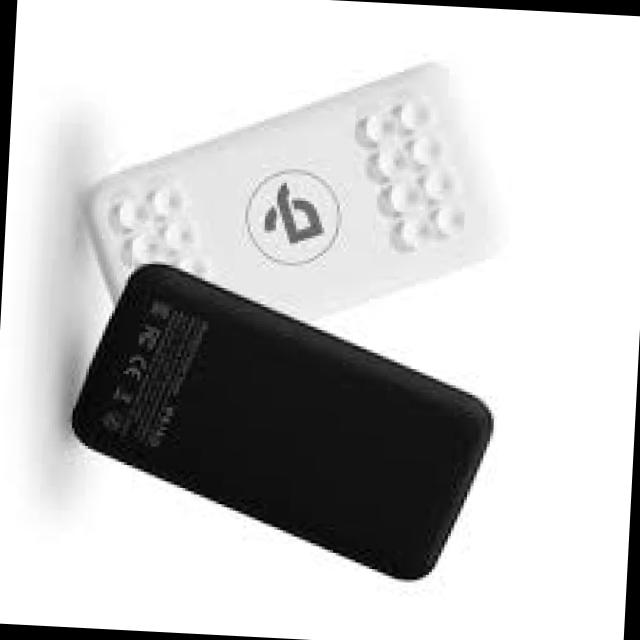power_bank: (76, 38, 518, 402), (60, 258, 508, 590)
